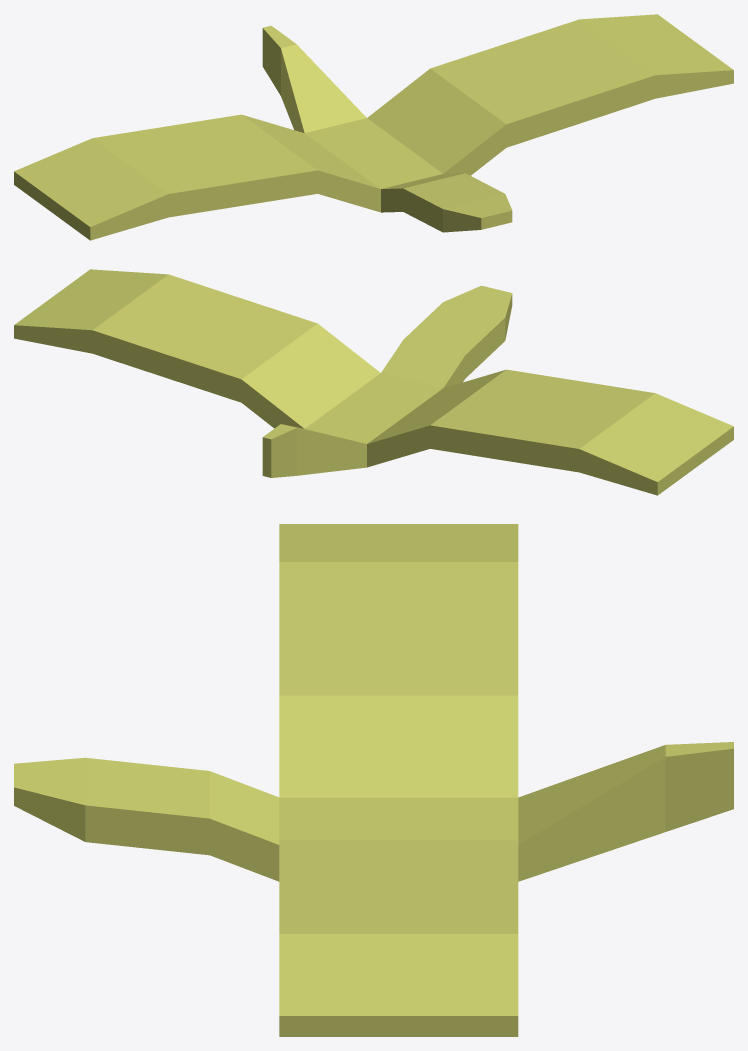
Rendered from Bird.fbx.
The picture shows the model from 3 angles, top to bottom: view 1: azimuth 30°, elevation 25°; view 2: azimuth 150°, elevation 25°; view 3: azimuth 270°, elevation 25°; orthographic projection. The views are drawn at different scales.
Visible parts, largest first — view 1: pCube1; view 2: pCube1; view 3: pCube1.
Boxes of the visible parts, x1,y1,x2,y2 form: pCube1: (14,14,733,240); pCube1: (14,269,733,495); pCube1: (14,524,733,1036).
Size of the model in its own units: 12.14 by 1.3 by 7.51.
